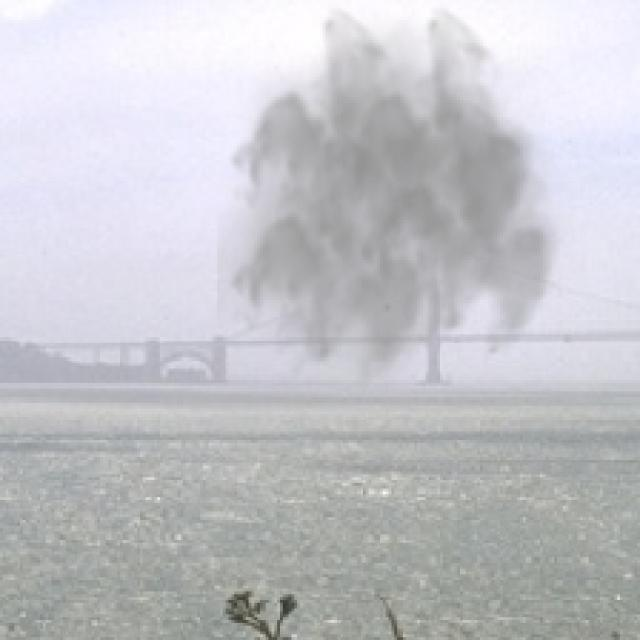Smoke: (217, 2, 589, 394)
